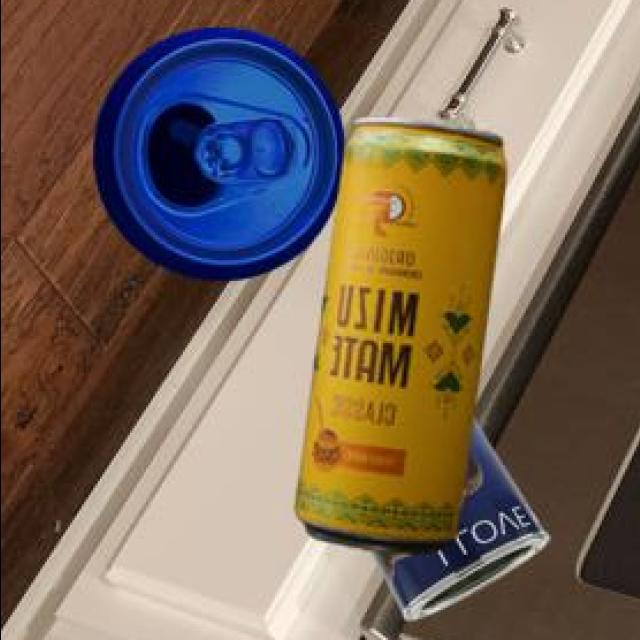logam: (298, 121, 508, 556), (96, 31, 346, 284), (374, 422, 551, 623)
